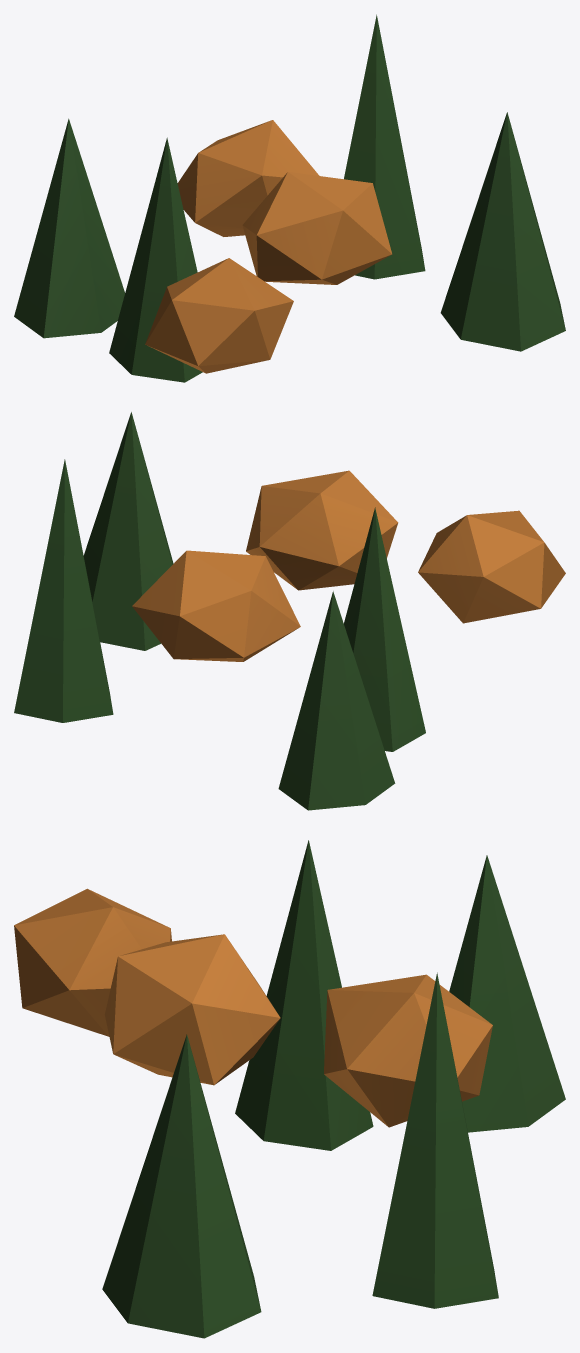
File: forest_clump_mixed.glb
3 views of the same model, one above another, from view 1: azimuth 30°, elevation 25°; view 2: azimuth 150°, elevation 25°; view 3: azimuth 270°, elevation 25° (orthographic). The views are drawn at different scales.
Bounding box in the file's own units: 23.98 × 12.52 × 20.25.
